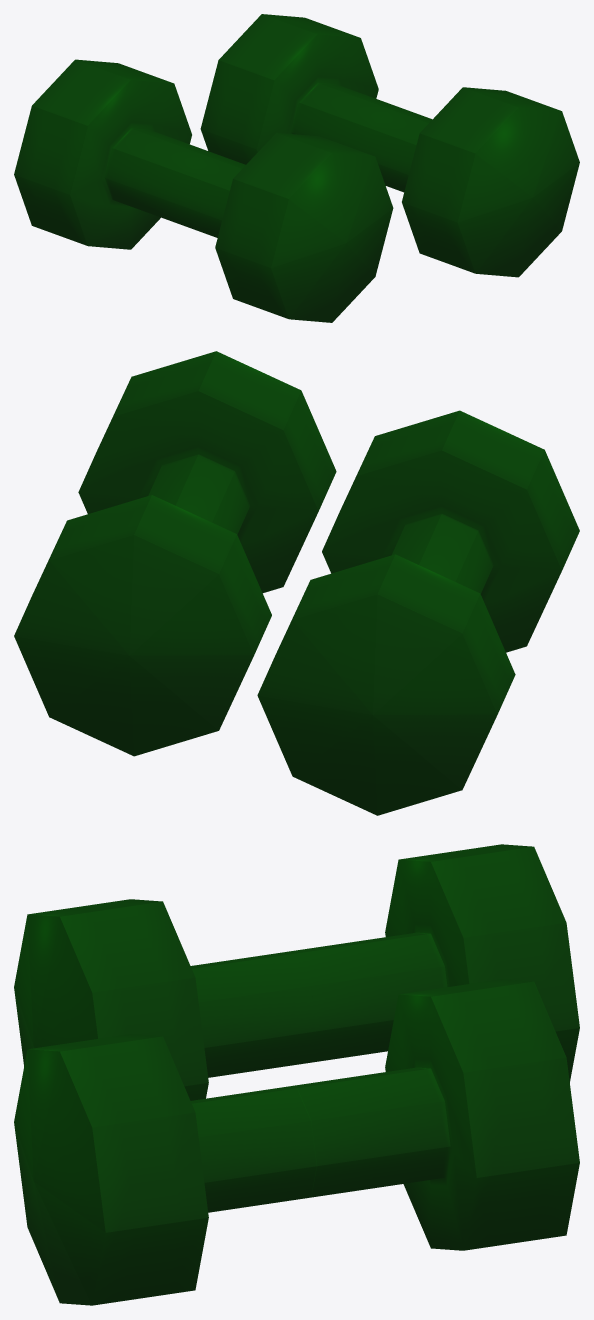
Rendered from dumbbell.glb.
3 views of the same model, one above another, from view 1: azimuth 30°, elevation 25°; view 2: azimuth 150°, elevation 25°; view 3: azimuth 270°, elevation 25° (orthographic). The views are drawn at different scales.
Visible parts, largest first — view 1: room2_dumbbell_left, room2_dumbbell_right; view 2: room2_dumbbell_right, room2_dumbbell_left; view 3: room2_dumbbell_right, room2_dumbbell_left.
Boxes of the visible parts, bbox=[...] form: room2_dumbbell_left: bbox=[14, 59, 393, 322]; room2_dumbbell_right: bbox=[200, 14, 579, 277]; room2_dumbbell_right: bbox=[14, 351, 336, 756]; room2_dumbbell_left: bbox=[257, 410, 579, 815]; room2_dumbbell_right: bbox=[14, 979, 579, 1305]; room2_dumbbell_left: bbox=[14, 844, 579, 1100].
Size of the model in its own units: 0.9632 by 0.358 by 0.7296.
Materials: 1 (1 with a texture image).
